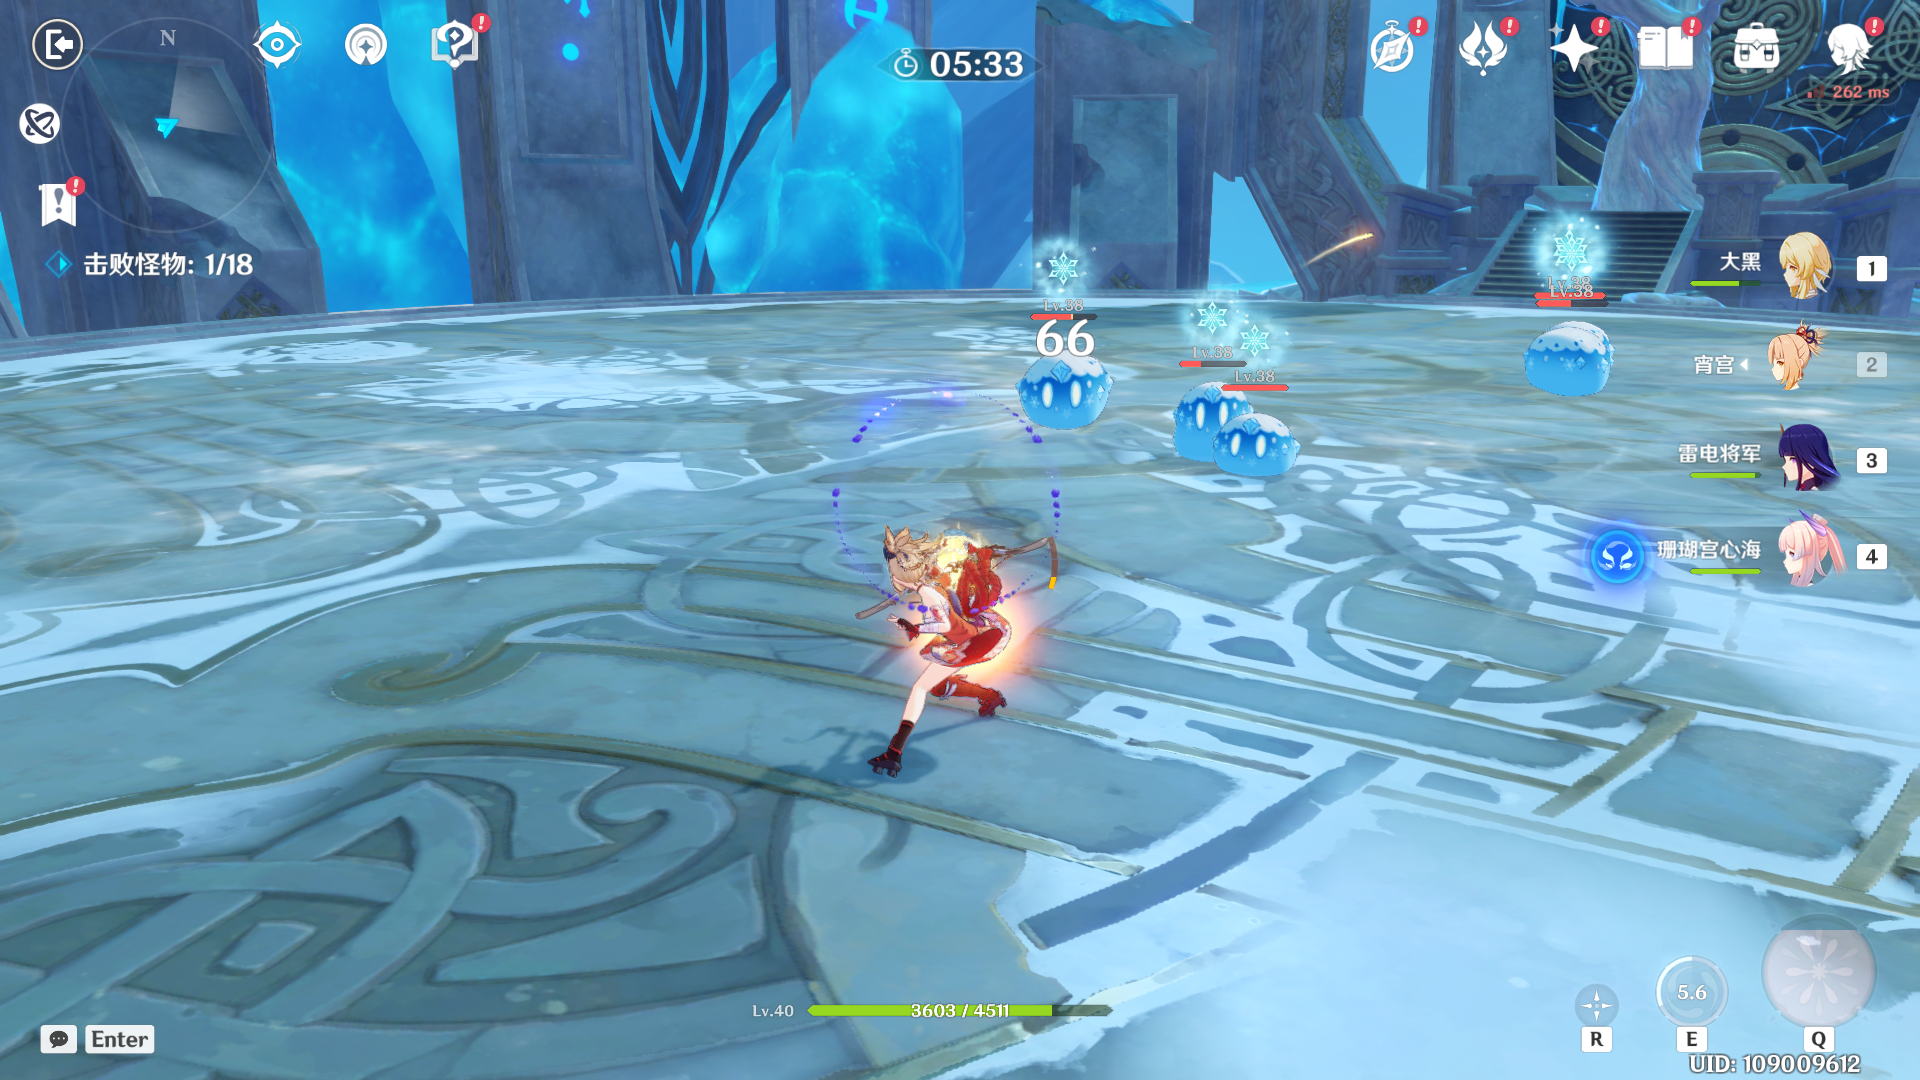character: (829, 502, 1091, 791)
slime: (1005, 331, 1118, 444), (1153, 371, 1257, 481), (1522, 313, 1622, 410), (1209, 402, 1294, 481)
